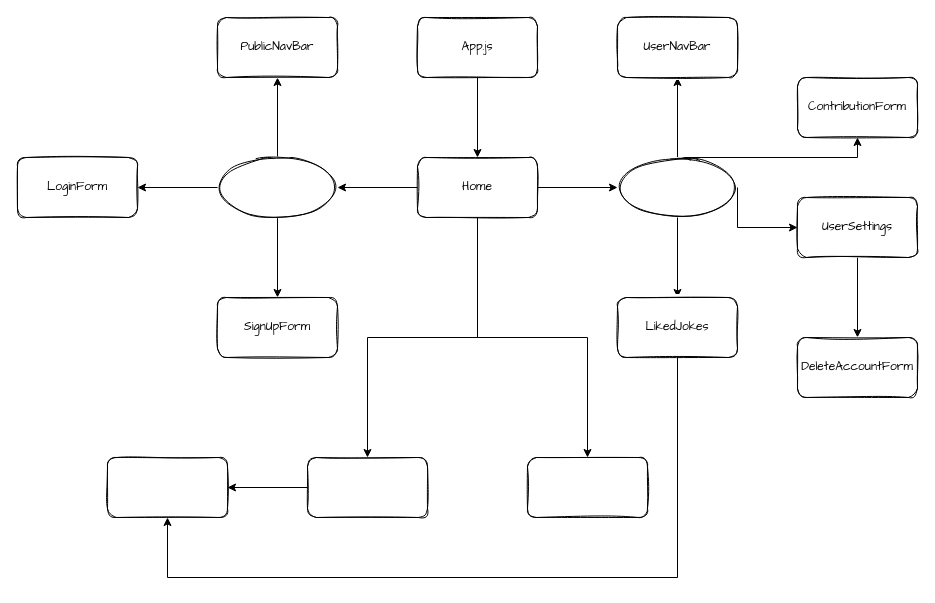
The diagram is 935 pixels wide and 603 high, and some of its shapes have lost their labels. Each missing label, with the centre of its shape:
"About" goes at (x=587, y=487).
"If logged in" goes at (x=677, y=187).
"If logged out" goes at (x=277, y=187).
"JokeCard" goes at (x=167, y=487).
"Jokes" goes at (x=367, y=487).
